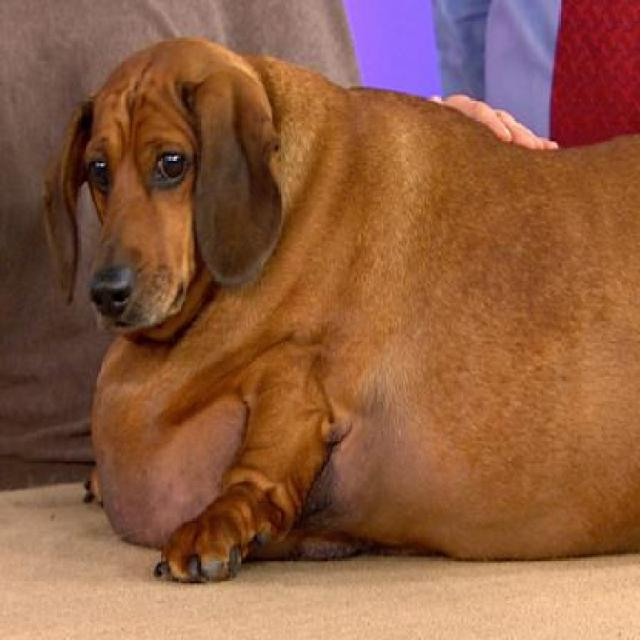Dog: (40, 26, 638, 586)
